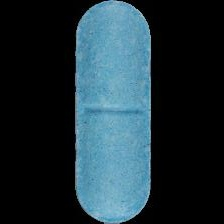21695-397: (0, 0, 224, 224)
